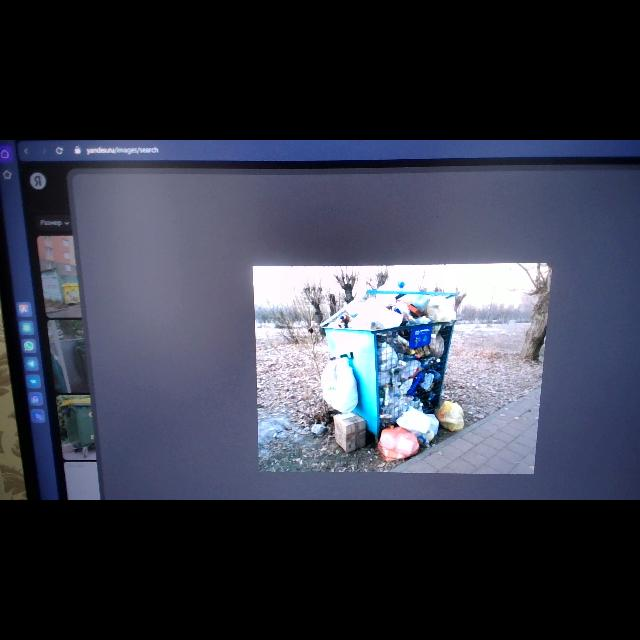Trash_Can_Full: (322, 294, 456, 433)
